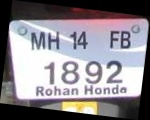character: (60, 59, 79, 84), (84, 60, 102, 84), (105, 59, 123, 83), (31, 31, 46, 51), (43, 61, 54, 85), (47, 31, 60, 50), (76, 31, 88, 51), (109, 29, 120, 50), (120, 29, 130, 48), (69, 30, 77, 51), (35, 85, 44, 96), (83, 83, 92, 94)
